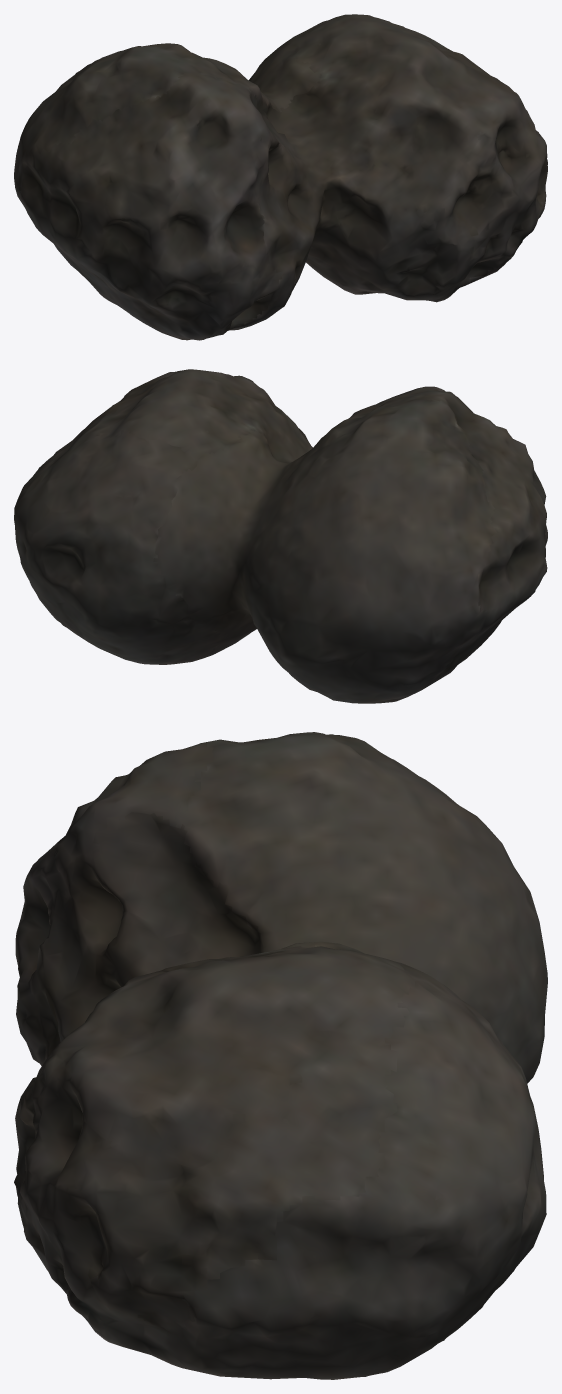
The model's file is asteroid_rare_3_lod2.glb.
3 renders of one model, top to bottom at view 1: azimuth 30°, elevation 25°; view 2: azimuth 150°, elevation 25°; view 3: azimuth 270°, elevation 25°, orthographic. The views are drawn at different scales.
Visible parts, largest first — view 1: model; view 2: model; view 3: model.
Part boxes in pixels (x1,y1,x2,y2): model: [14, 14, 547, 340]; model: [14, 369, 547, 703]; model: [14, 732, 547, 1379].
Size of the model in its own units: 1.9 by 1.13 by 1.23.
1 material, 1 textured.
